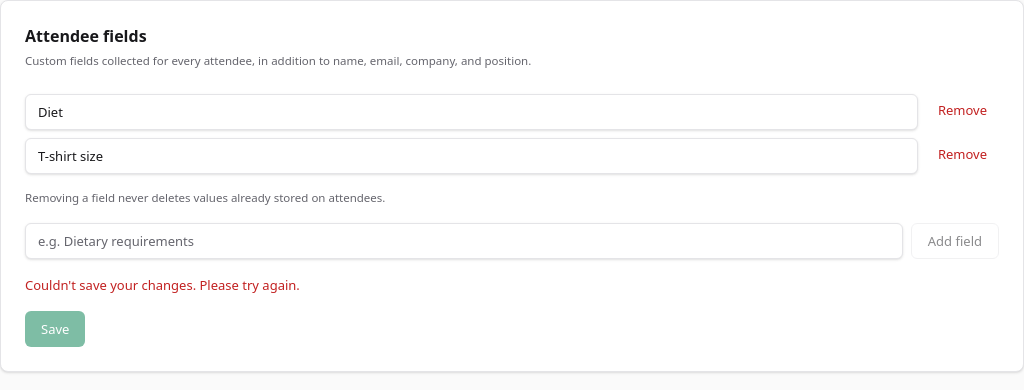
Test: AttendeeFieldsCard › removes a field locally
This screenshot has width=1024, height=390.
Click the 1st button "Remove" at x=962, y=110, box [926,94,999,126]
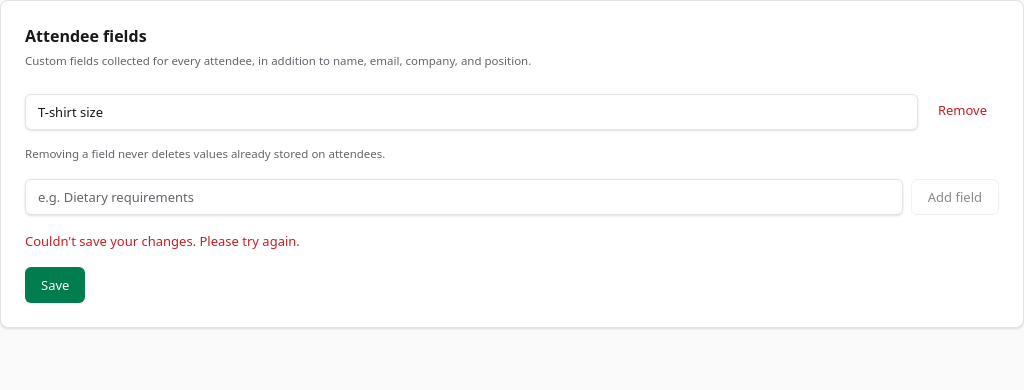
Check: the field showing "T-shirt size" is shown, box [25,94,918,130]
Check: the button "Save" is enabled, box [25,267,85,303]
